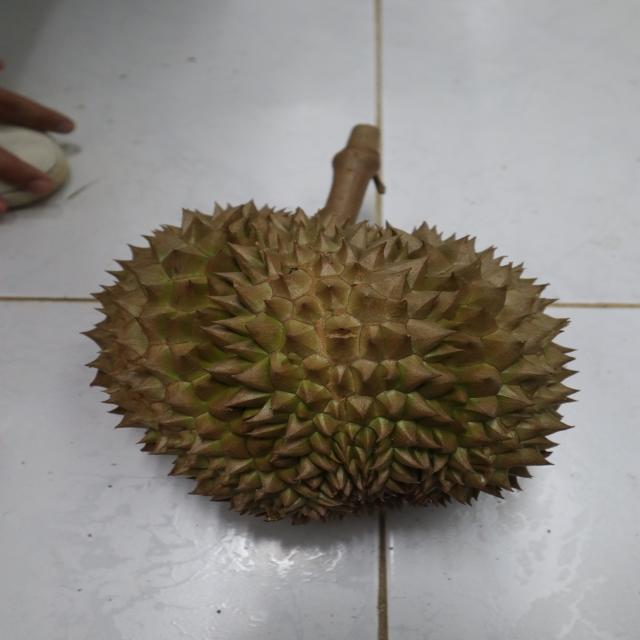mature: (71, 196, 580, 529)
